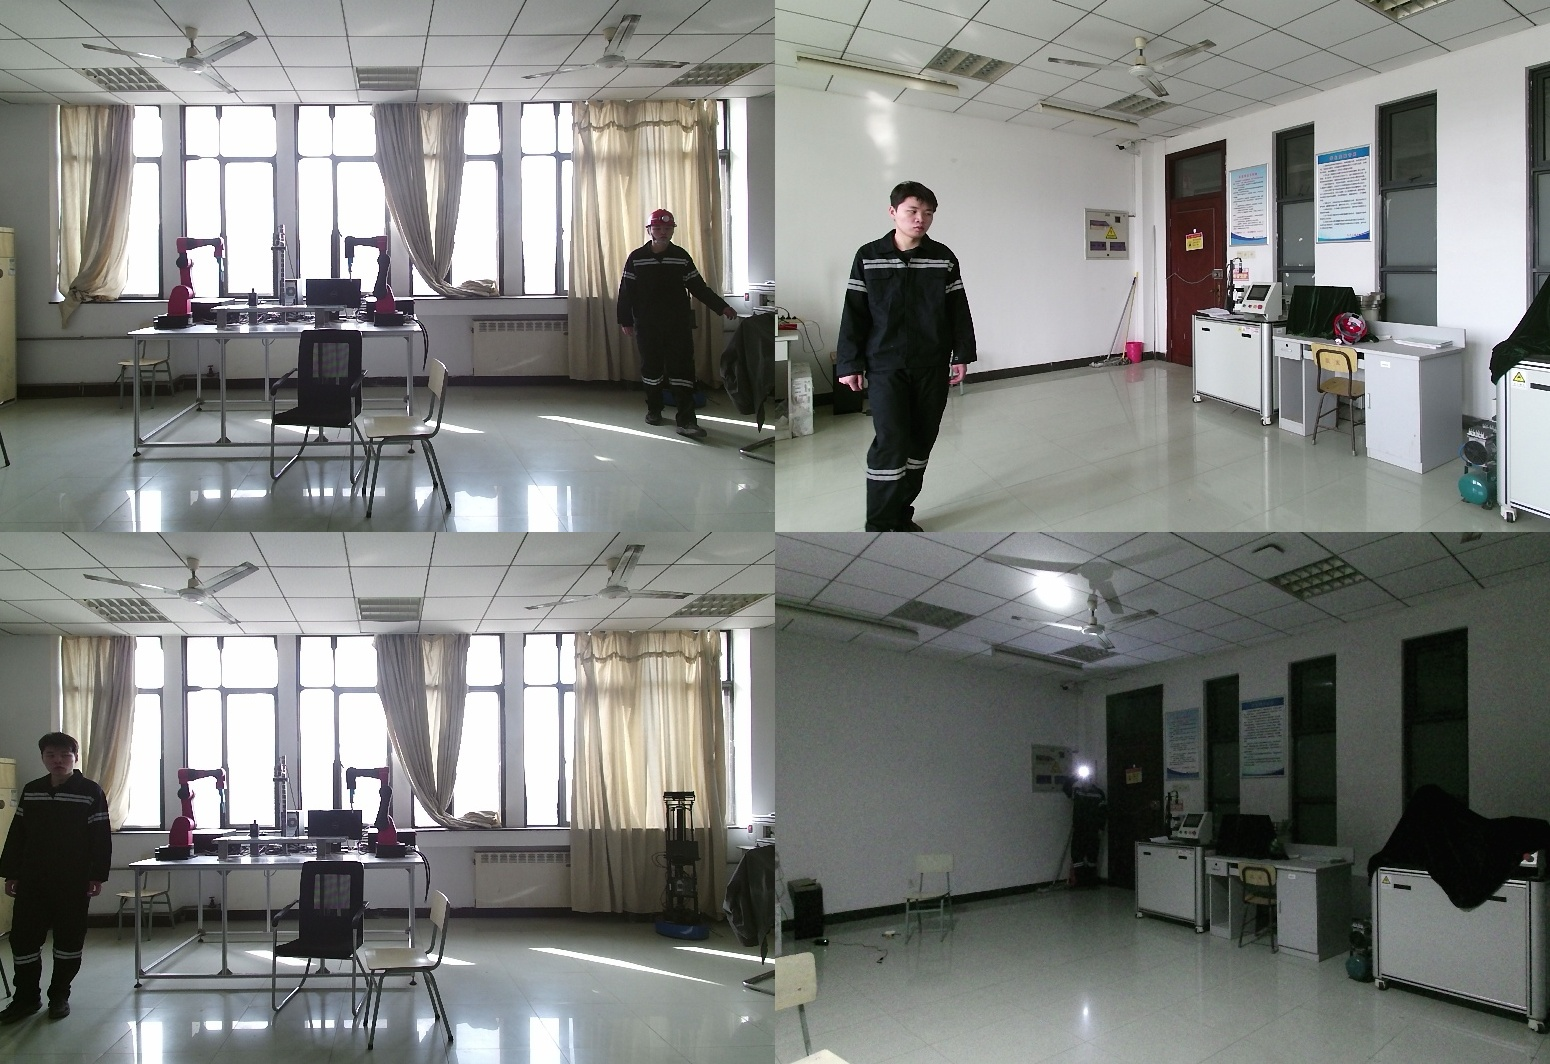person: (833, 183, 974, 532), (3, 732, 118, 1019), (620, 209, 725, 433), (1063, 770, 1106, 887)
